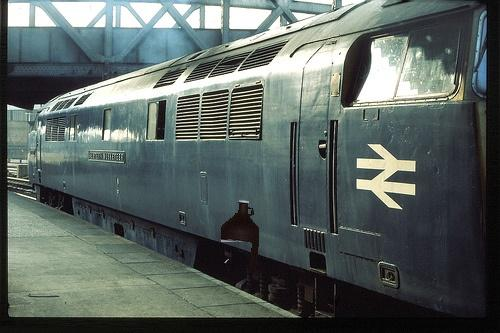tampered: (222, 201, 259, 273)
